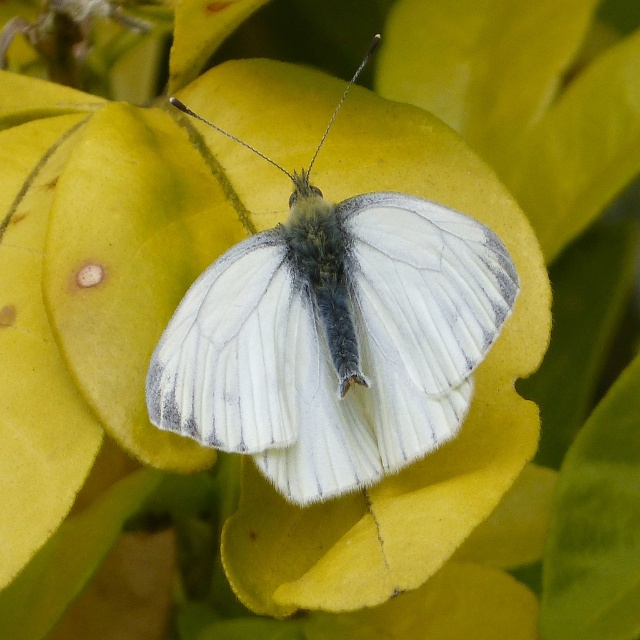Butterfly: (144, 11, 511, 606)
